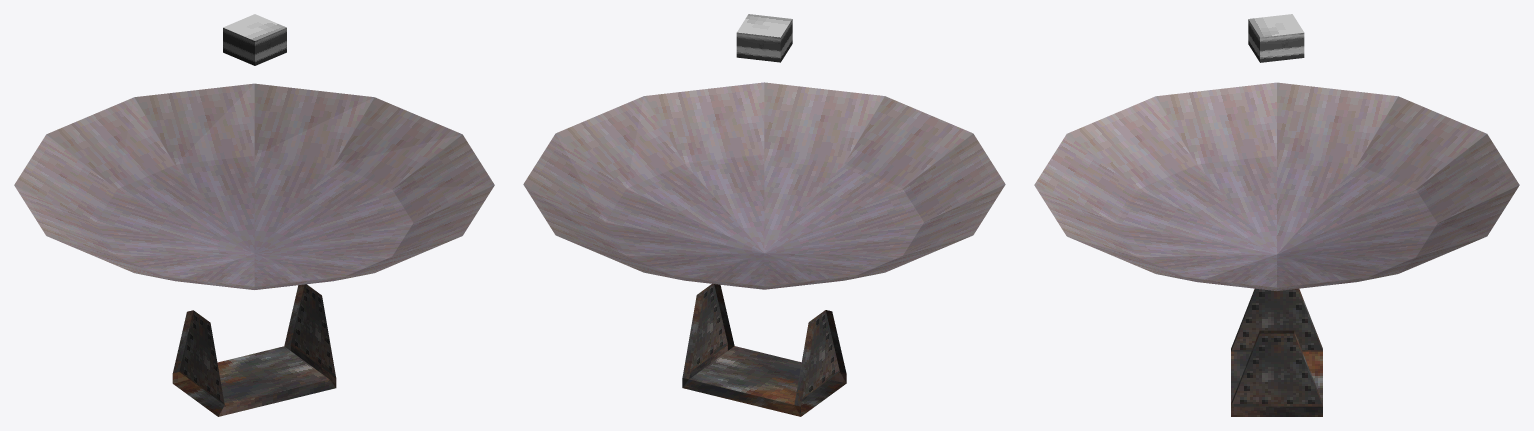
File: satelite_dish.glb
3 views of the same model, side by side, from view 1: azimuth 30°, elevation 25°; view 2: azimuth 150°, elevation 25°; view 3: azimuth 270°, elevation 25° (orthographic).
Parts seen in each view (by area): view 1: Object; view 2: Object; view 3: Object.
Part boxes in pixels (left/top/right/bottom): Object: left=14, top=14, right=494, bottom=416; Object: left=523, top=14, right=1005, bottom=416; Object: left=1034, top=14, right=1519, bottom=416.
Size of the model in its own units: 22.91 by 19.39 by 22.91.
30 materials, 30 textured.
